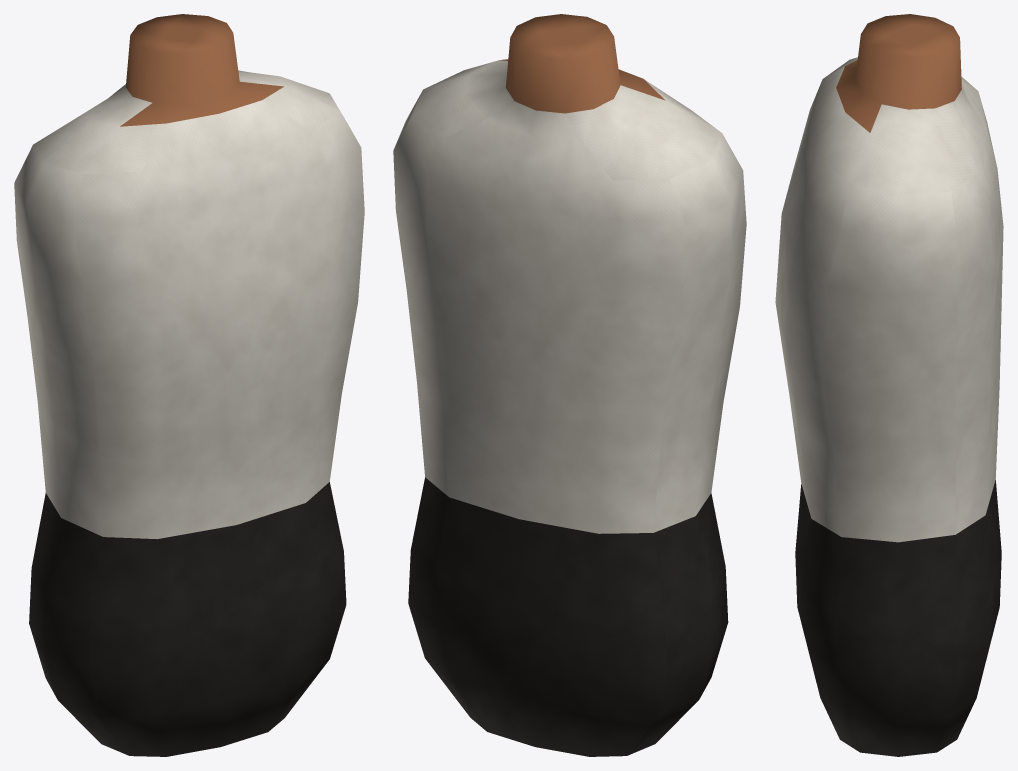
The model's file is torso.obj.
3 views of the same model, side by side, from view 1: azimuth 30°, elevation 25°; view 2: azimuth 150°, elevation 25°; view 3: azimuth 270°, elevation 25° (orthographic).
Parts seen in each view (by area): view 1: Torso; view 2: Torso; view 3: Torso.
Part boxes in pixels (box(x1,y1,x2,y2)): Torso: box(14, 14, 364, 756); Torso: box(393, 14, 746, 756); Torso: box(775, 14, 1003, 756).
Size of the model in its own units: 0.372 by 0.7568 by 0.2298.
3 materials, 3 textured.
